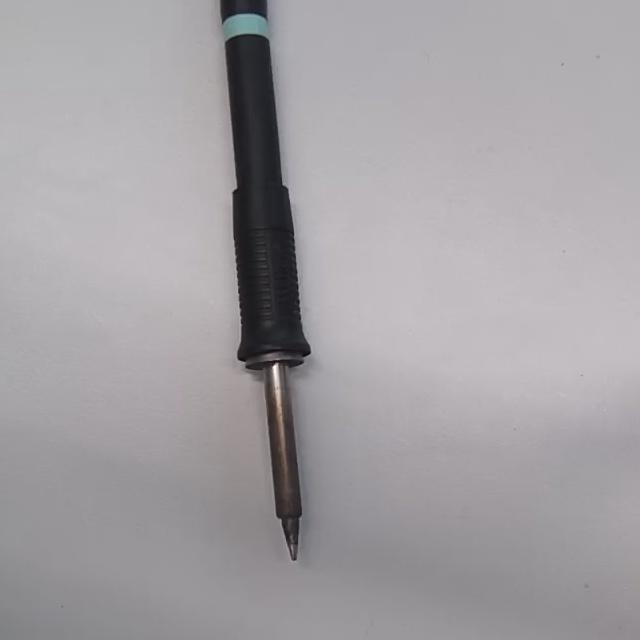soldering_iron: (222, 0, 314, 560)
